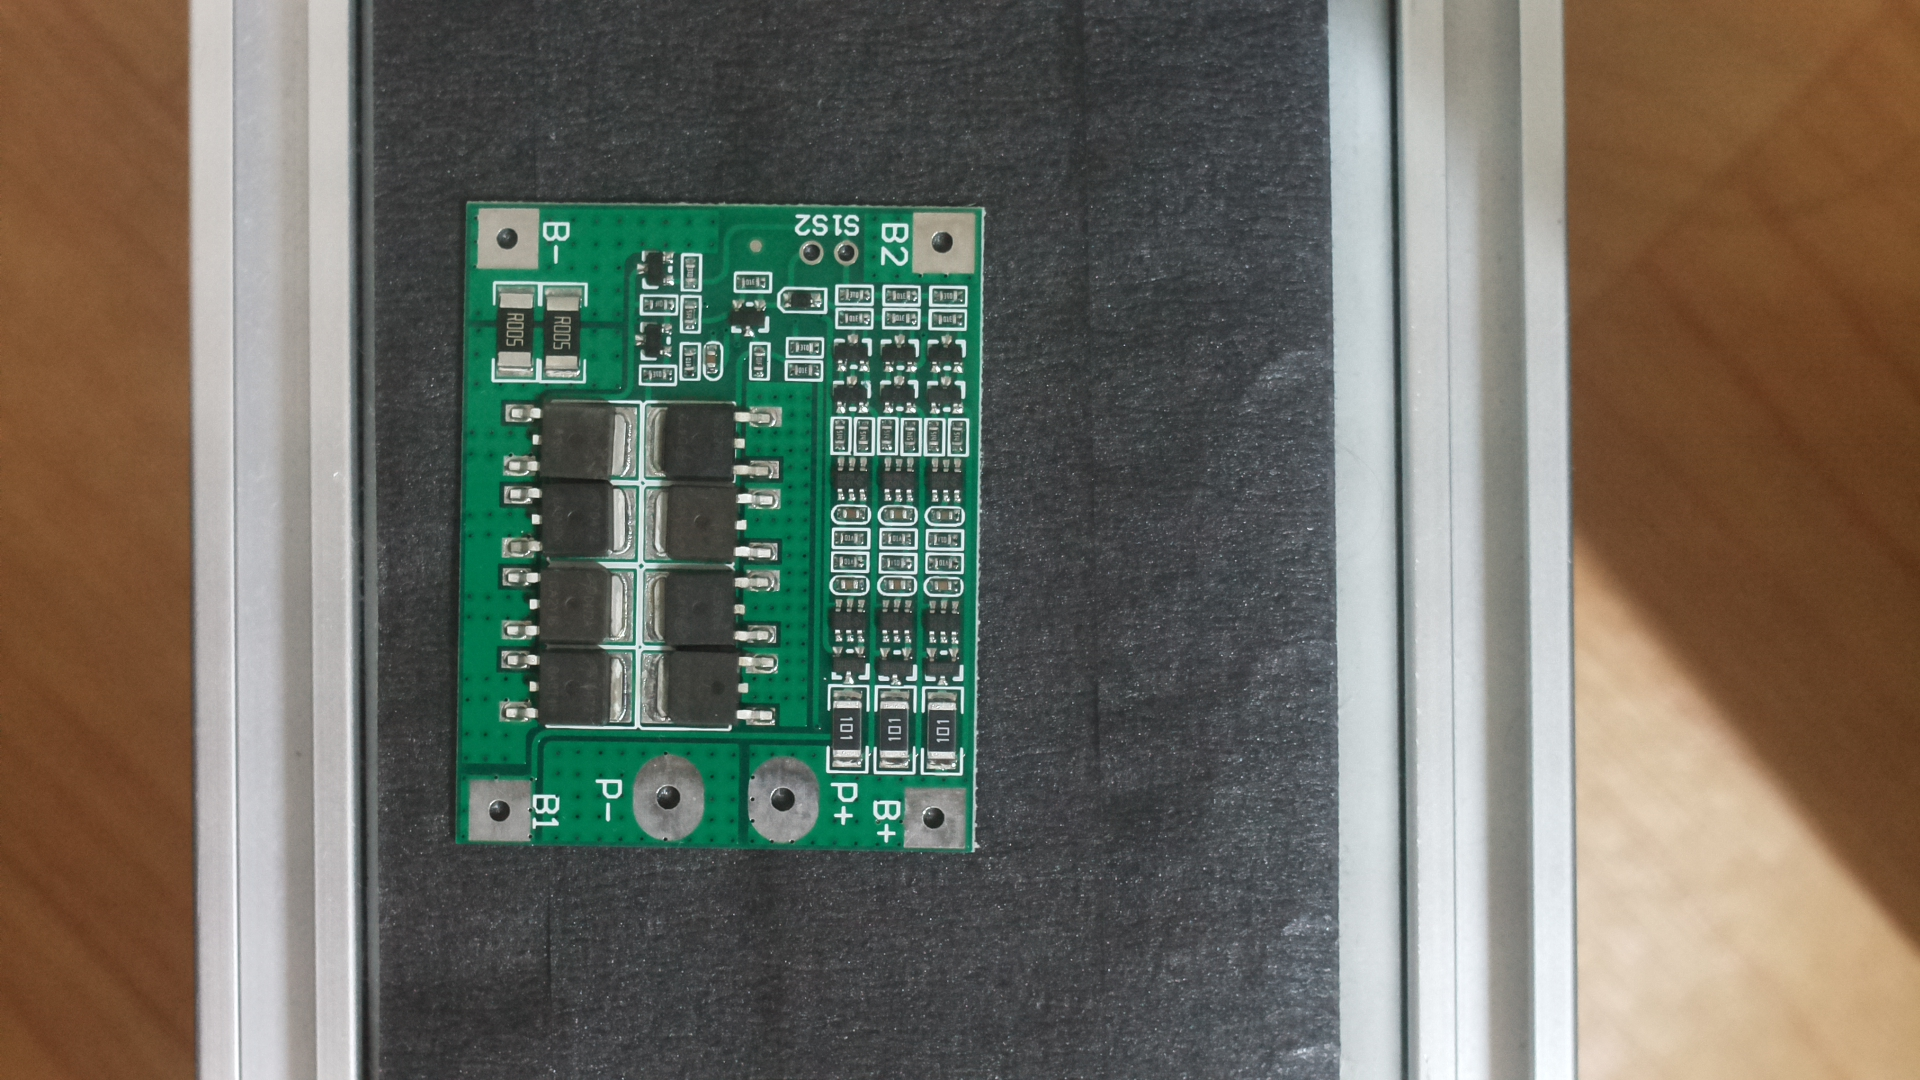C_Normal: (443, 193, 994, 882)
